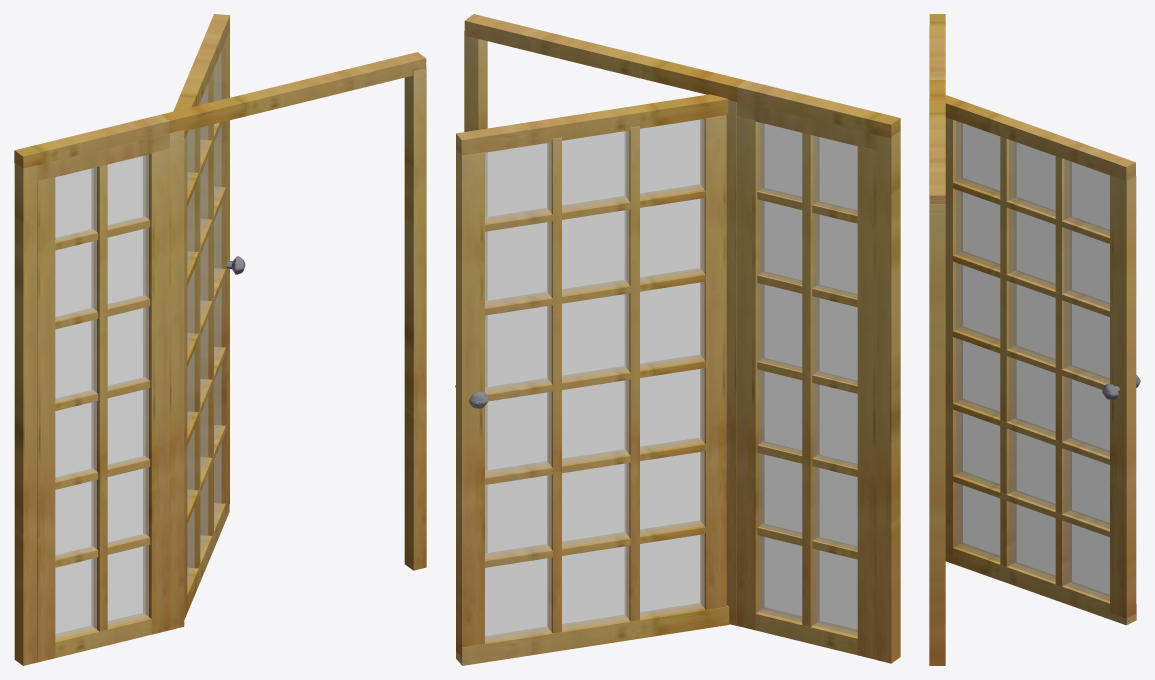
File: sweethome3d-contributions-opened-patio-door-270.glb
3 views of the same model, side by side, from view 1: azimuth 30°, elevation 25°; view 2: azimuth 150°, elevation 25°; view 3: azimuth 270°, elevation 25° (orthographic). The views are drawn at different scales.
Parts seen in each view (by area): view 1: sweethome3d_window_pane_1, Cube_7, Cube_11_2, Cube_11_1, Cube_7_1, sweethome3d_window_pane, Cube_11, Cube_4_2, right, Cube_12, Cube_4_1, Cube_4 (+16 smaller); view 2: sweethome3d_window_pane, sweethome3d_window_pane_1, Cube_7, right, Cube_11_2, left, Cube_7_1, Cube_4_2, Cube_4_1, Cube_4, Cube_12, bottom (+16 smaller); view 3: sweethome3d_window_pane, right, Cube_11_1, left, Cube_4, Cube_4_1, top, bottom, Cube_12, Cube_5_3, Cube_5, Cube_5_4 (+3 smaller).
Boxes of the visible parts, box(x1,y1,x2,y2) form: sweethome3d_window_pane_1: box(55, 154, 148, 639); Cube_7: box(143, 148, 169, 634); Cube_11_2: box(14, 163, 37, 665); Cube_11_1: box(404, 68, 426, 570); Cube_7_1: box(37, 177, 55, 662); sweethome3d_window_pane: box(187, 51, 221, 584); Cube_11: box(169, 130, 184, 629); Cube_4_2: box(91, 164, 107, 631); right: box(214, 31, 229, 512); Cube_12: box(161, 52, 426, 133); Cube_4_1: box(187, 102, 200, 568); Cube_4: box(200, 69, 213, 535); sweethome3d_window_pane: box(485, 119, 704, 641); sweethome3d_window_pane_1: box(758, 122, 857, 635); Cube_7: box(736, 116, 764, 630); right: box(456, 150, 484, 656); Cube_11_2: box(876, 131, 900, 663); left: box(700, 115, 726, 609); Cube_7_1: box(857, 146, 876, 659); Cube_4_2: box(802, 133, 819, 626); Cube_4_1: box(625, 126, 639, 621); Cube_4: box(547, 137, 561, 633); Cube_12: box(464, 14, 744, 101); bottom: box(456, 603, 729, 665); sweethome3d_window_pane: box(955, 121, 1109, 601); right: box(1110, 175, 1136, 618); Cube_11_1: box(929, 199, 945, 665); left: box(945, 117, 962, 555); Cube_4: box(1055, 156, 1071, 586); Cube_4_1: box(1000, 136, 1016, 566); top: box(945, 95, 1135, 180); bottom: box(945, 543, 1136, 625); Cube_12: box(929, 80, 945, 204); Cube_5_3: box(953, 399, 1109, 464); Cube_5: box(953, 178, 1109, 243); Cube_5_4: box(953, 471, 1109, 537).
Size of the model in its own units: 12.33 by 14.87 by 6.06.
3 materials, 1 textured.
